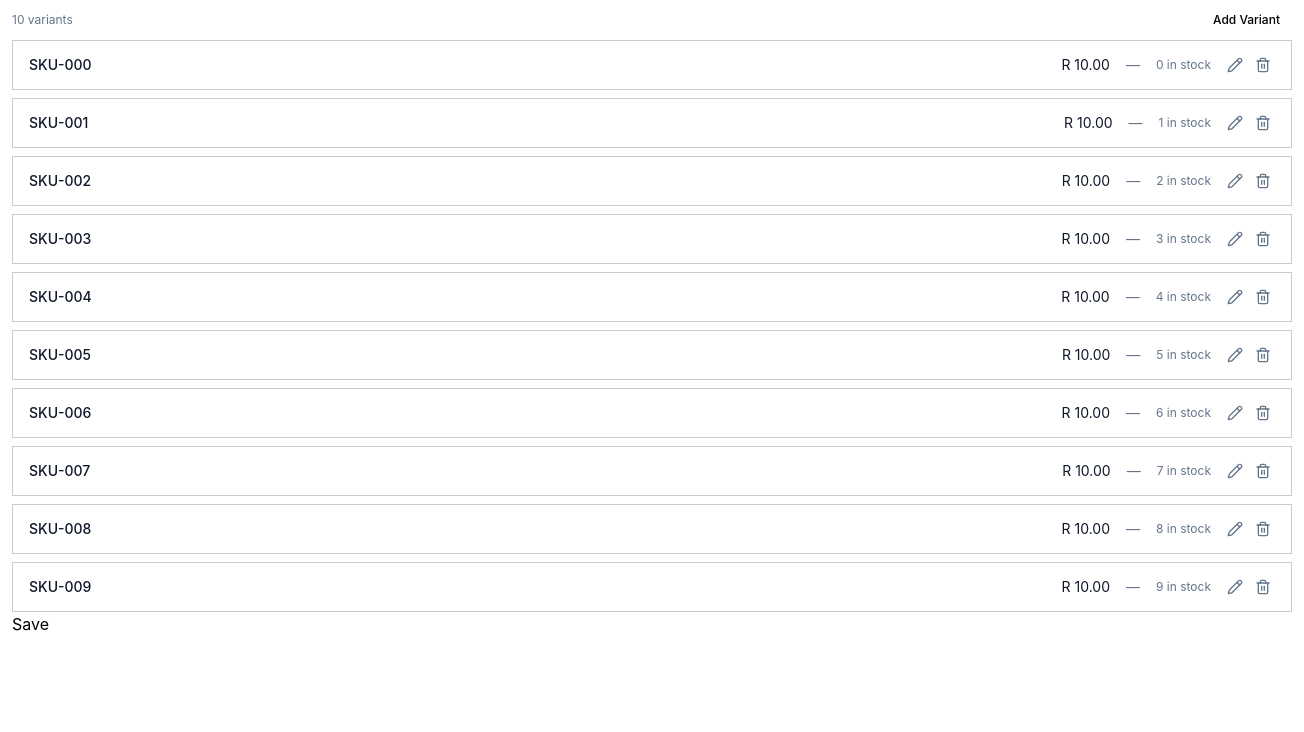
Test case: VariantFields — pagination › Add Variant jumps to the page the new row lands on, open for editing
Click the button with test id "add-variant": (1246,20) [1201,12,1292,28]
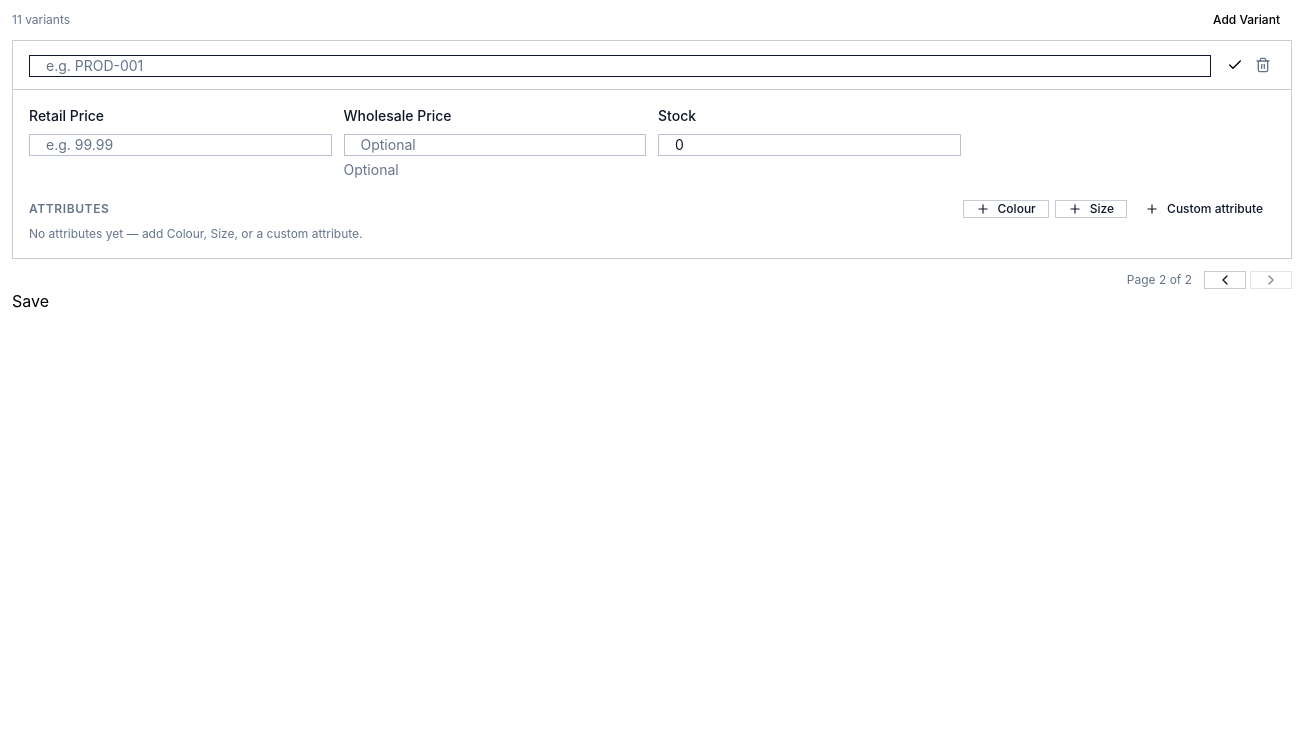
Expected: the text "Page 2 of 2" is shown, [1127,272,1192,288]
Expected: the element with test id "variant-row-10" is shown, [12,40,1292,259]
Expected: the field with placeholder "e.g. PROD-001" is shown, [29,55,1211,77]
